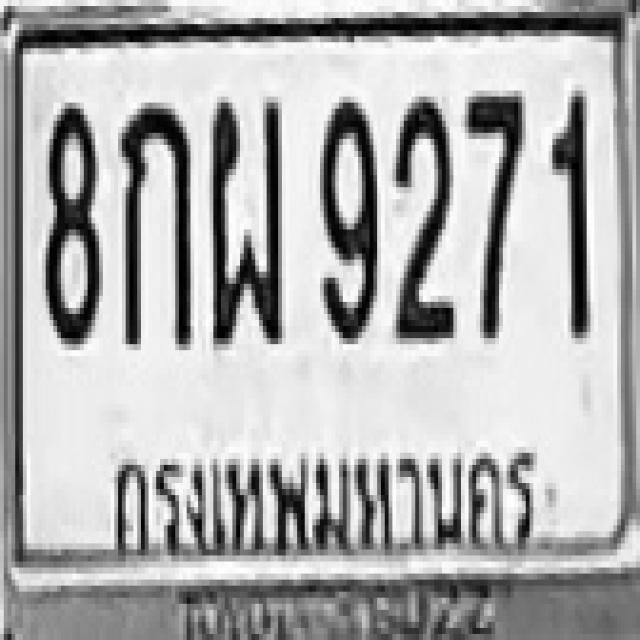1: (550, 85, 585, 338)
10GorGai: (118, 97, 191, 344)
2: (391, 94, 452, 335)
37PhorPhueng: (208, 94, 284, 341)
7: (465, 91, 522, 338)
8: (42, 97, 99, 338)
9: (316, 97, 377, 338)
Bangkok: (104, 447, 548, 563)
